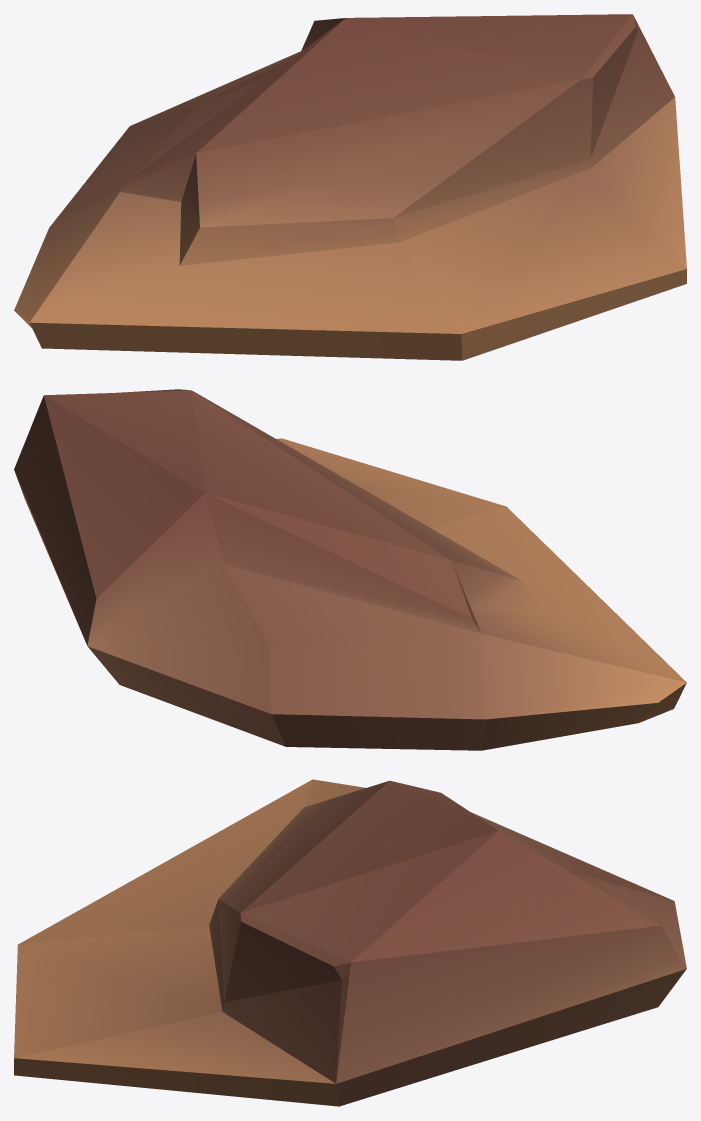
The model's file is roc03.FBX.
3 renders of one model, top to bottom at view 1: azimuth 30°, elevation 25°; view 2: azimuth 150°, elevation 25°; view 3: azimuth 270°, elevation 25°, orthographic. The views are drawn at different scales.
Parts seen in each view (by area): view 1: roc03_LOD00; view 2: roc03_LOD00; view 3: roc03_LOD00.
Boxes of the visible parts, <box> form: roc03_LOD00: <box>14,14,686,360</box>; roc03_LOD00: <box>14,389,686,750</box>; roc03_LOD00: <box>14,779,686,1106</box>.
Size of what is drawn, in the model's own units: 30.55 by 8.44 by 23.34.
